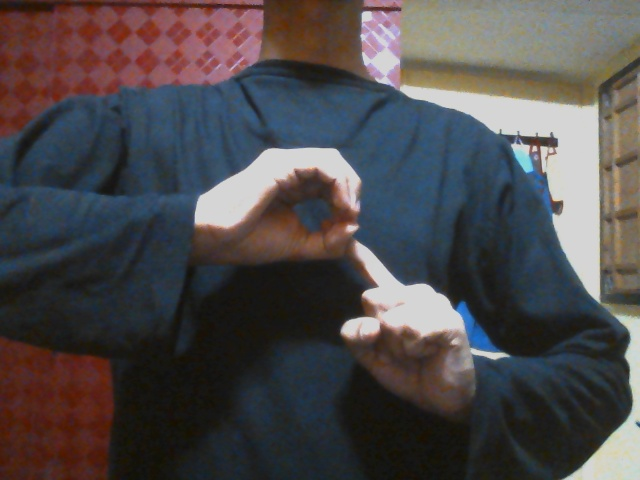Q: (202, 143, 467, 430)
